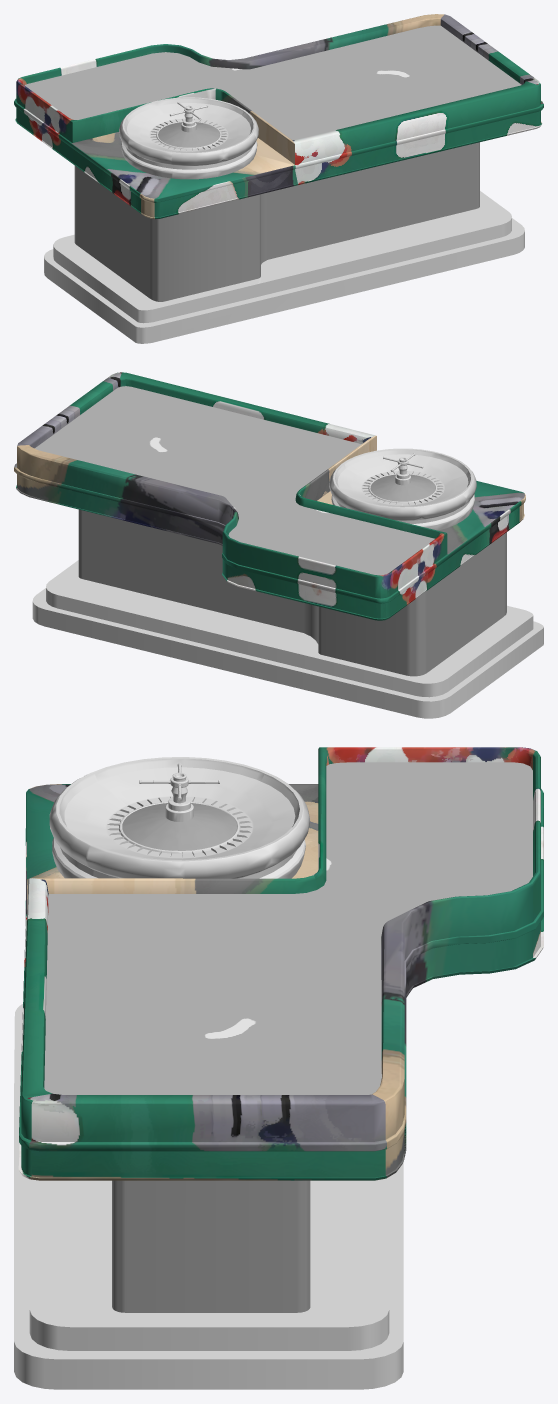
File: INV_TableRoulette.fbx
3 renders of one model, top to bottom at view 1: azimuth 30°, elevation 25°; view 2: azimuth 150°, elevation 25°; view 3: azimuth 270°, elevation 25°, orthographic. The views are drawn at different scales.
Parts seen in each view (by area): view 1: INV_TableRoulette; view 2: INV_TableRoulette; view 3: INV_TableRoulette.
Boxes of the visible parts, x1,y1,x2,y2 form: INV_TableRoulette: [14, 14, 543, 343]; INV_TableRoulette: [14, 372, 543, 718]; INV_TableRoulette: [14, 747, 543, 1389].
Bounding box in the file's own units: 310 × 133 × 187.
8 materials, 2 textured.
